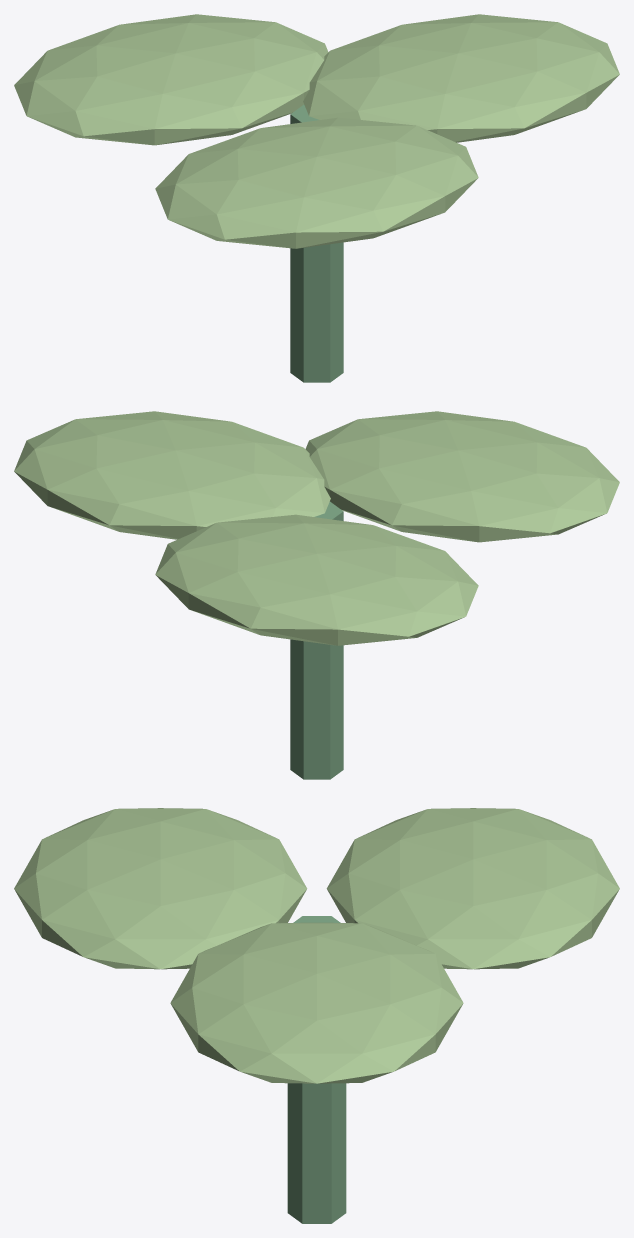
File: clover_patch.glb
3 views of the same model, one above another, from view 1: azimuth 30°, elevation 25°; view 2: azimuth 150°, elevation 25°; view 3: azimuth 270°, elevation 25° (orthographic). The views are drawn at different scales.
Visible parts, largest first — view 1: Leaf_1, Leaf_2, Leaf_0, Stem; view 2: Leaf_2, Leaf_1, Leaf_0, Stem; view 3: Leaf_0, Leaf_1, Leaf_2, Stem.
Part boxes in pixels (<box>): Leaf_1: <box>155,117,478,248</box>; Leaf_2: <box>14,14,328,145</box>; Leaf_0: <box>303,14,619,142</box>; Stem: <box>290,104,343,382</box>; Leaf_2: <box>155,514,478,645</box>; Leaf_1: <box>305,411,619,542</box>; Leaf_0: <box>14,411,330,539</box>; Stem: <box>290,501,343,779</box>; Leaf_0: <box>170,922,463,1083</box>; Leaf_1: <box>14,808,307,969</box>; Leaf_2: <box>326,808,619,969</box>; Stem: <box>287,916,346,1223</box>.
Bounding box in the file's own units: 0.578 × 0.3086 × 0.5371.
